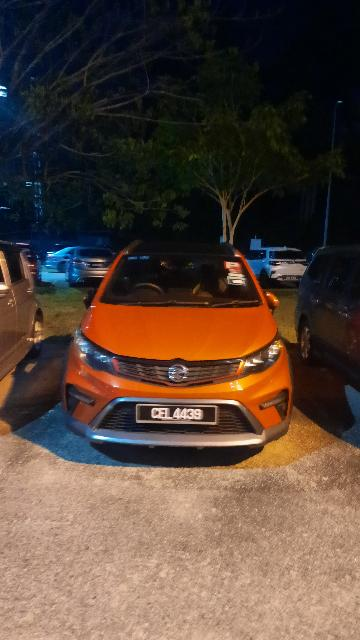License_Plate: (133, 402, 221, 431)
car: (64, 239, 297, 456)
